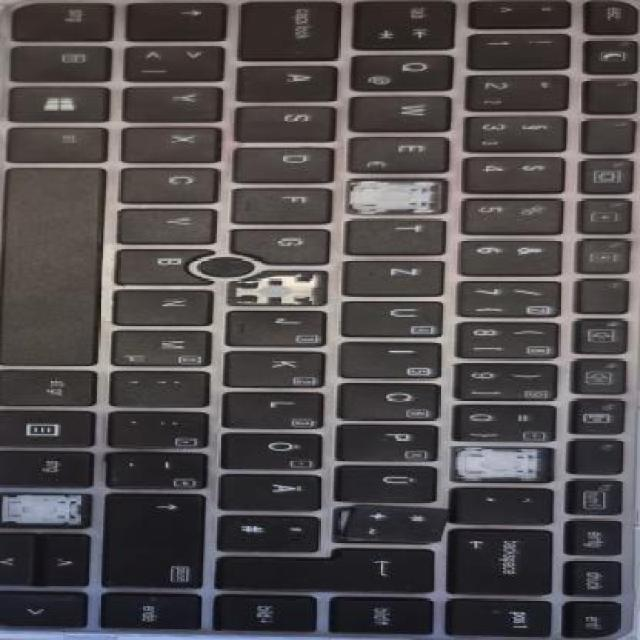Keyboard problems: (454, 448, 552, 482), (229, 271, 325, 303), (348, 180, 443, 212), (2, 495, 88, 526)
